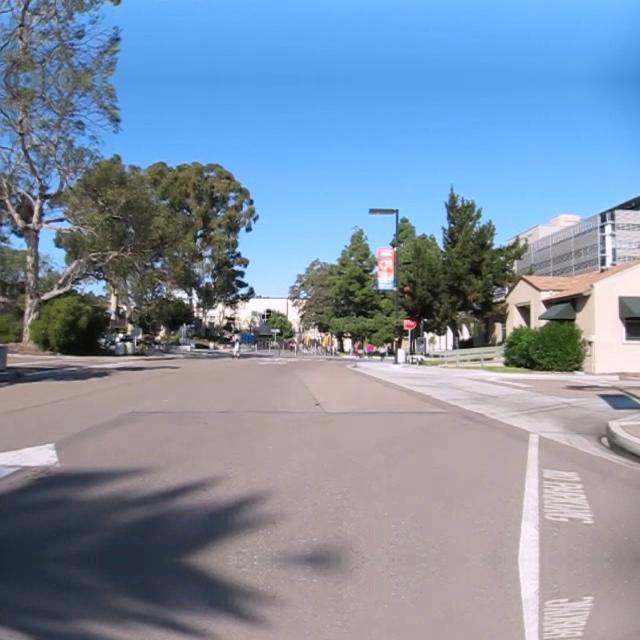stop: (402, 314, 418, 328)
